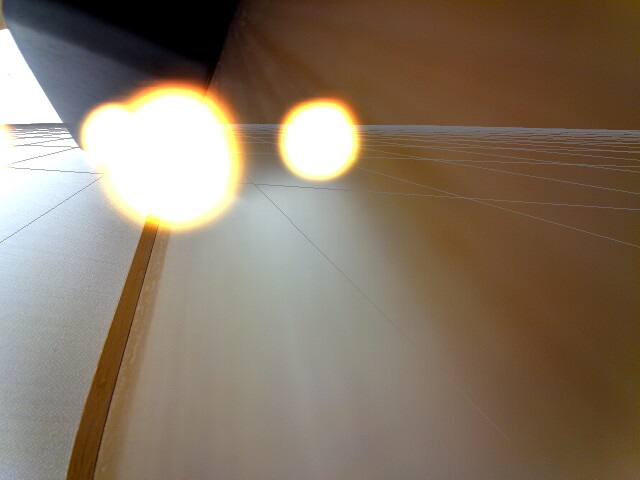firebig: (124, 73, 244, 238)
